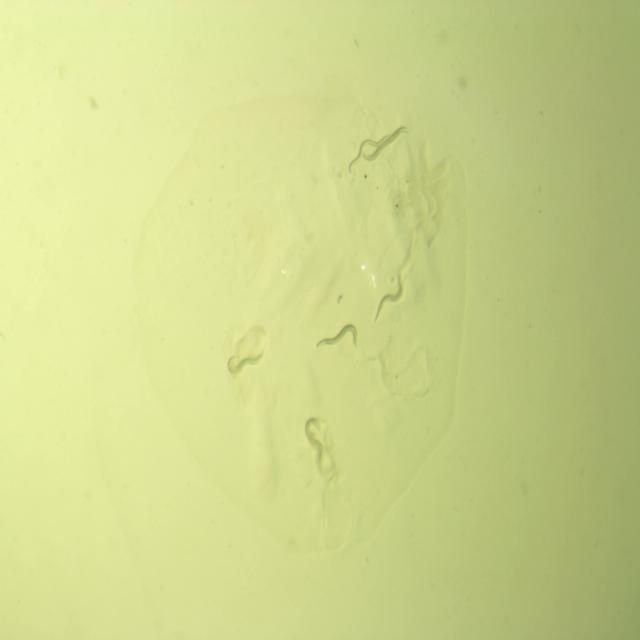worm: (360, 117, 411, 164), (345, 130, 394, 178), (371, 269, 406, 328), (311, 318, 361, 359), (221, 343, 266, 383), (300, 414, 330, 463)
